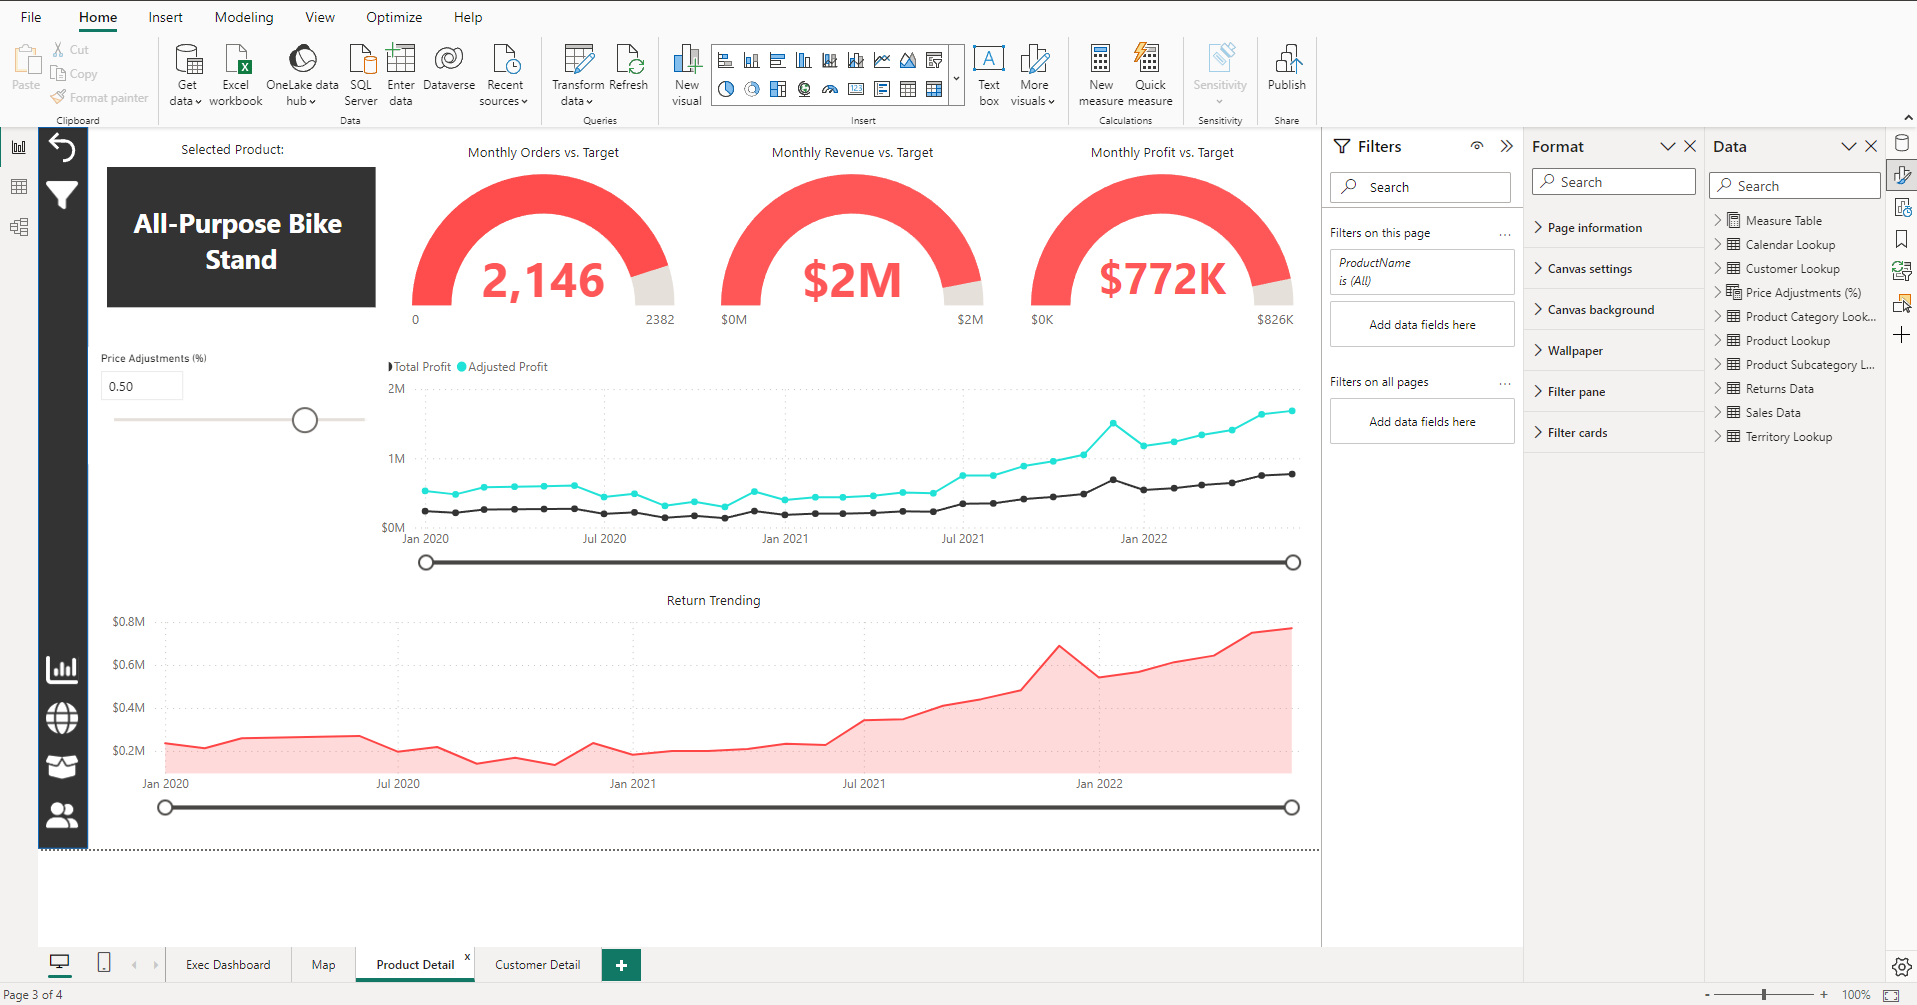

What the dashboard file says about the page in this screenshot:
{"tool":"powerbi","page":{"name":"Product Detail","canvas":[1280,720],"ordinal":3},"visuals":[{"type":"shape","title":"Left Nav BG","box":[0,0,50,720],"z":0},{"type":"gauge","title":"Monthly Orders vs. Target","fields":{"Y":["Measure Table.Total Orders"],"MaxValue":["Measure Table.Order Target"]},"box":[367.8,15.6,272.2,203.3],"z":1000},{"type":"gauge","title":"Monthly Revenue vs. Target","fields":{"MaxValue":["Measure Table.Revenue Target"],"Y":["Measure Table.Total Revenue"]},"box":[676.7,15.6,272.2,203.3],"z":3000},{"type":"gauge","title":"Monthly Profit vs. Target","fields":{"MaxValue":["Measure Table.Profit Target"],"Y":["Measure Table.Total Profit"]},"box":[985.6,15.6,272.2,203.3],"z":4000},{"type":"areaChart","title":"Profit Trending","fields":{"Y":["Measure Table.Total Profit"],"Category":["Calendar Lookup.Date Hierarchy.Start of Year","Calendar Lookup.Date Hierarchy.Start of Month","Calendar Lookup.Date Hierarchy.Start of Week","Calendar Lookup.Date Hierarchy.Date"]},"box":[69,219,1211,227],"z":5000},{"type":"areaChart","title":"Return Trending","fields":{"Category":["Calendar Lookup.Date Hierarchy.Start of Year","Calendar Lookup.Date Hierarchy.Start of Month","Calendar Lookup.Date Hierarchy.Start of Week","Calendar Lookup.Date Hierarchy.Date"],"Y":["Measure Table.Total Profit"]},"box":[69,463,1211,227],"z":6000}]}

Visuals, with their boxes on the page's 1280x720 design canvas (x1, y1, x2, y2). These are canvas units, not pixel positions in the 1917x1005 screenshot, which may show the page scaled, cropped or inside an application window:
"Left Nav BG" shape: (left=0, top=0, right=50, bottom=720)
"Monthly Orders vs. Target" gauge: (left=368, top=16, right=640, bottom=219)
"Monthly Revenue vs. Target" gauge: (left=677, top=16, right=949, bottom=219)
"Monthly Profit vs. Target" gauge: (left=986, top=16, right=1258, bottom=219)
"Profit Trending" areaChart: (left=69, top=219, right=1280, bottom=446)
"Return Trending" areaChart: (left=69, top=463, right=1280, bottom=690)
